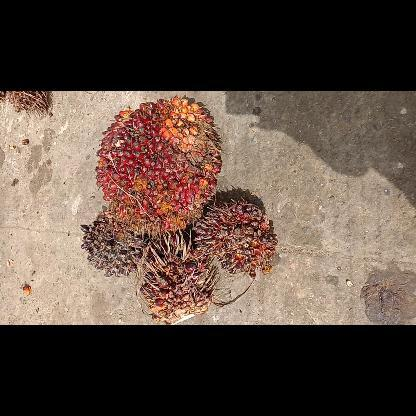TBS abnormal: (136, 236, 219, 324), (193, 198, 279, 280), (78, 209, 152, 278)
TBS masak: (93, 95, 223, 238)
